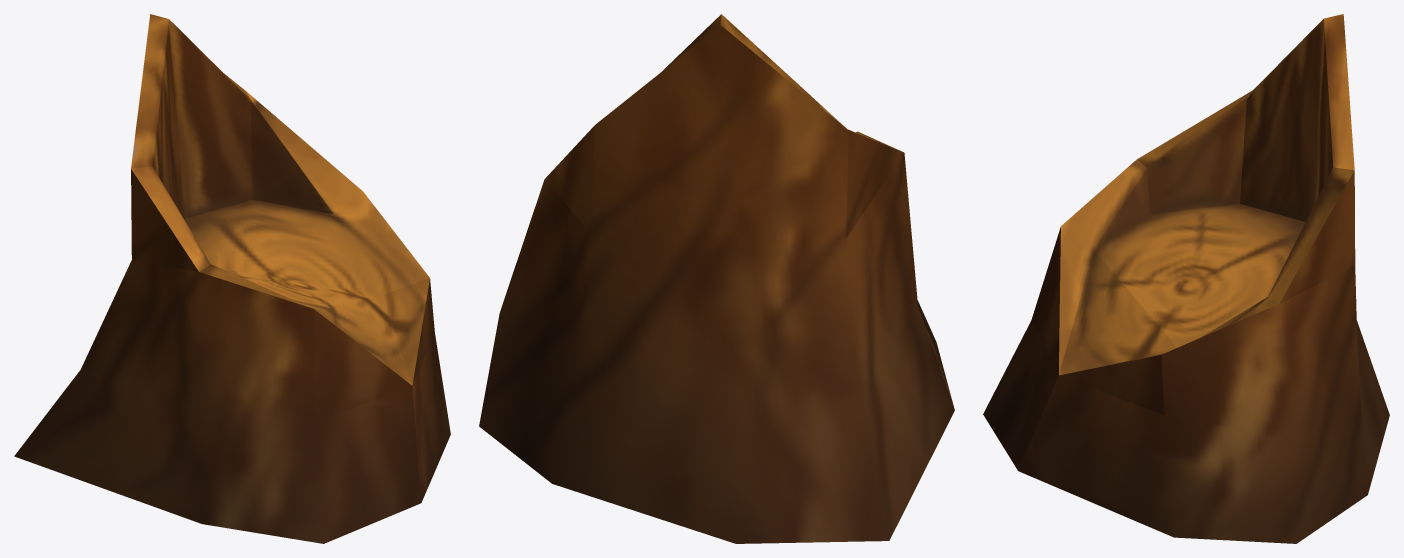
Rendered from stump_2.fbx.
The picture shows the model from 3 angles, left to right: view 1: azimuth 30°, elevation 25°; view 2: azimuth 150°, elevation 25°; view 3: azimuth 270°, elevation 25°; orthographic projection. The views are drawn at different scales.
Visible parts, largest first — view 1: stump_2; view 2: stump_2; view 3: stump_2.
Part boxes in pixels (x1,y1,x2,y2): stump_2: [14, 14, 450, 543]; stump_2: [479, 14, 954, 543]; stump_2: [983, 14, 1389, 543].
Bounding box in the file's own units: 1.54 × 1.66 × 1.46.
